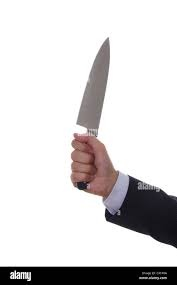knife: (75, 35, 111, 188)
